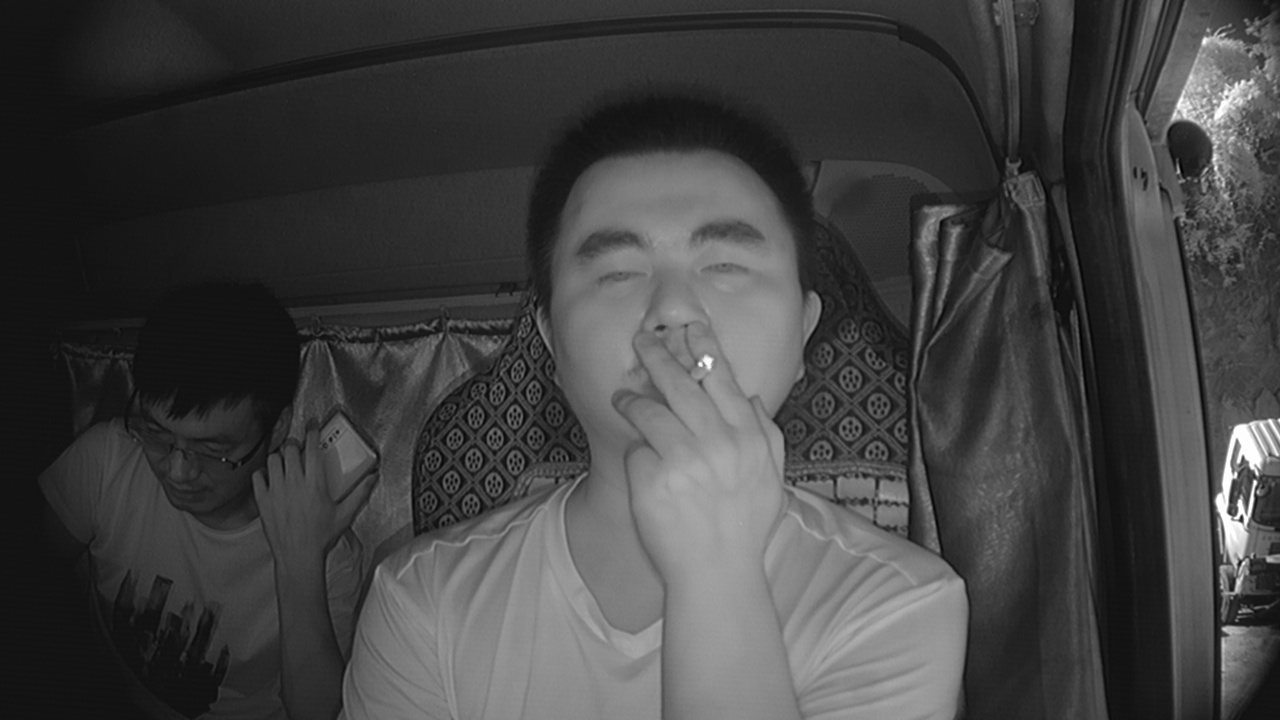hand: (617, 319, 789, 570)
